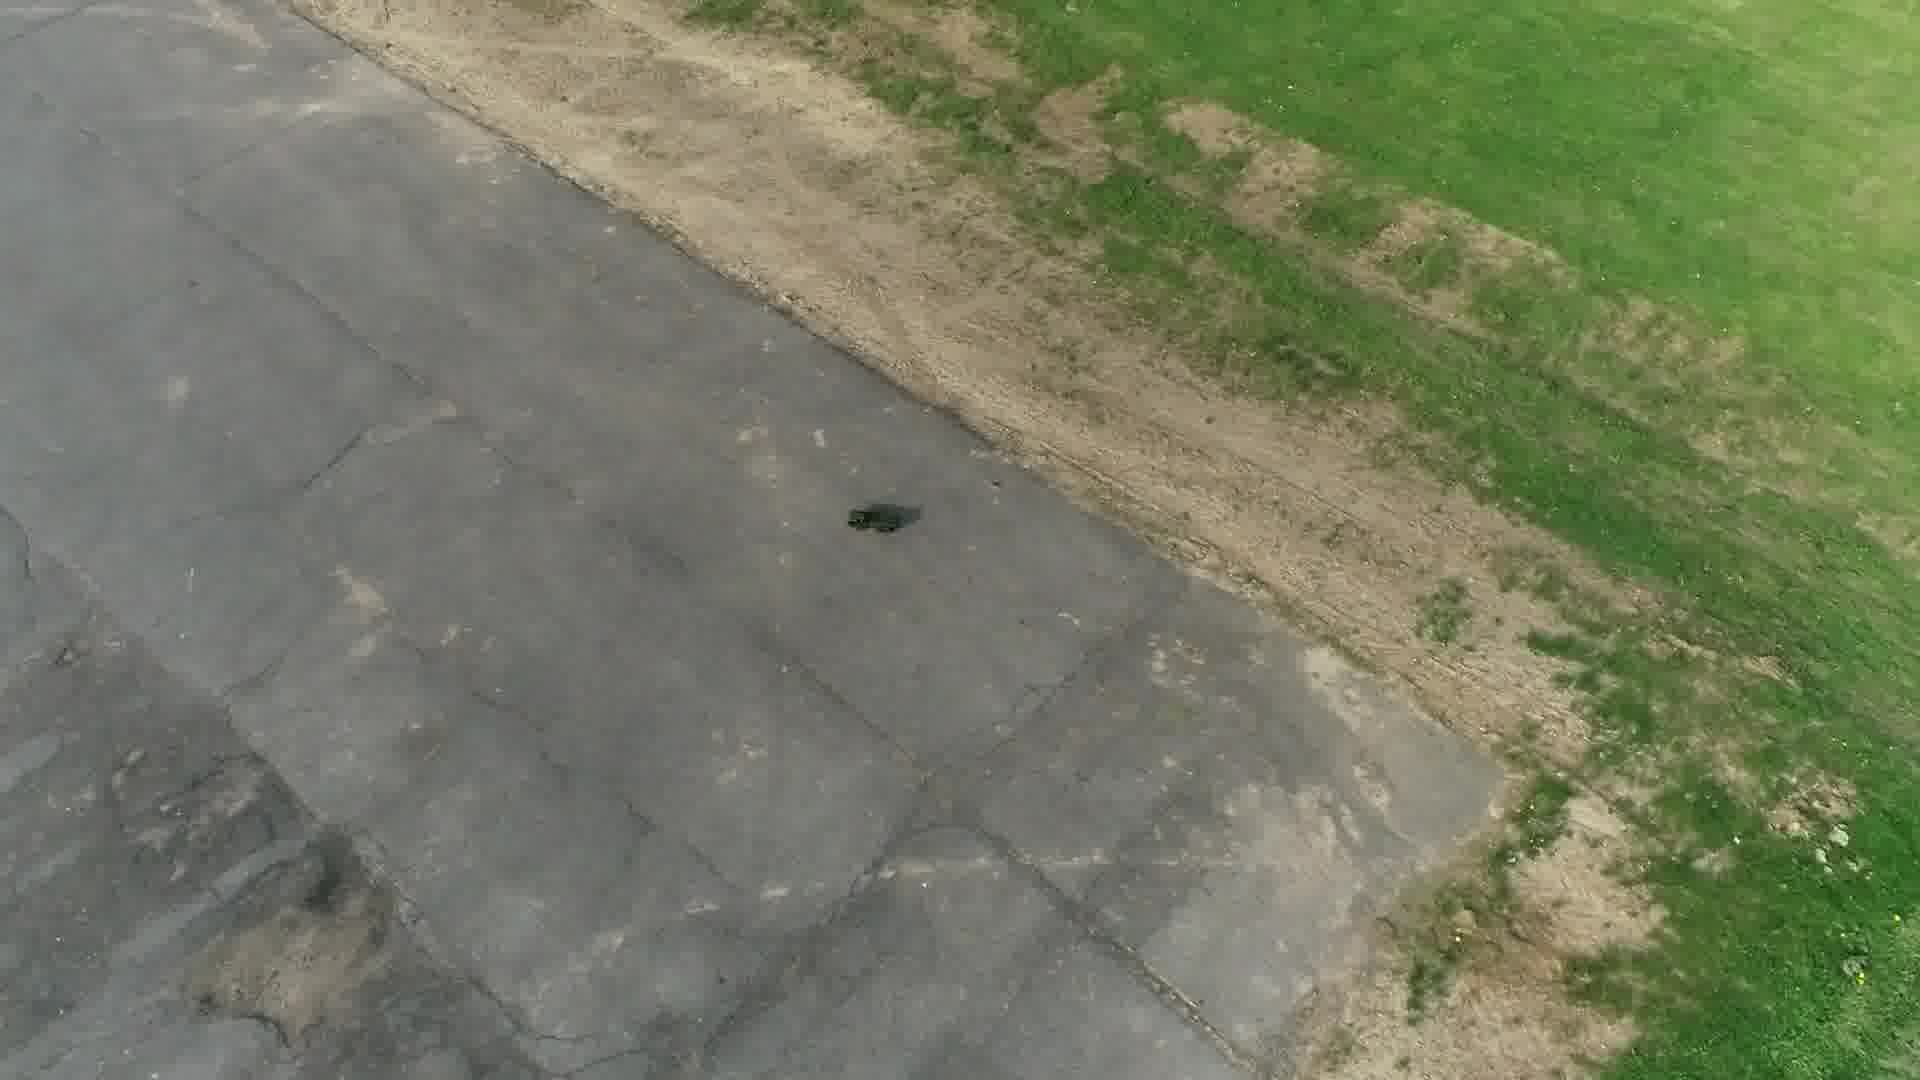transporter9: (843, 504, 903, 535)
